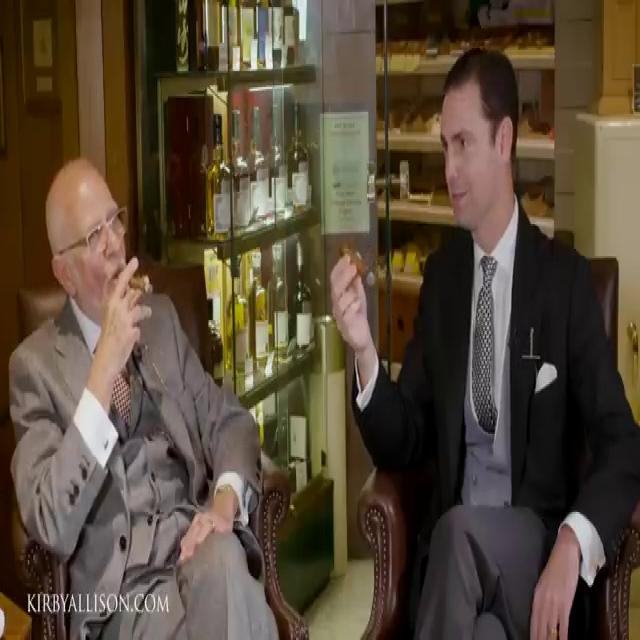Smooking: (335, 221, 379, 297), (125, 266, 161, 306)
